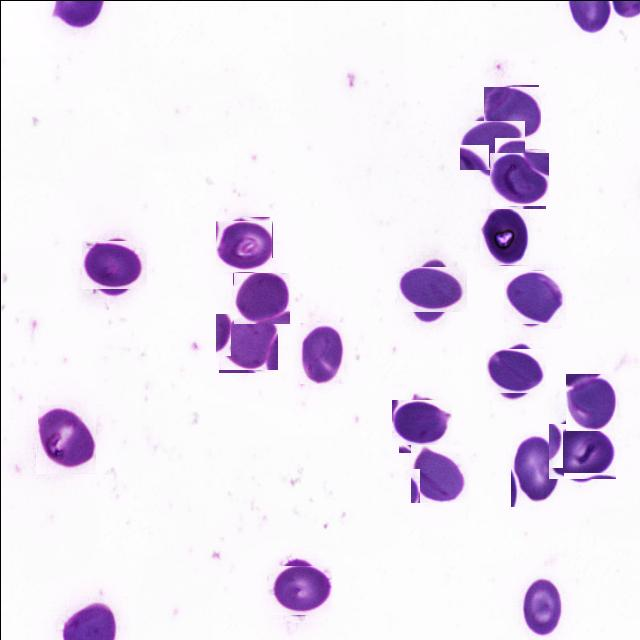red blood cell: (36, 404, 96, 473), (550, 419, 612, 481), (510, 431, 560, 506), (216, 310, 276, 370), (402, 260, 460, 318), (410, 444, 468, 502), (506, 268, 564, 326), (463, 115, 521, 173), (270, 561, 328, 618), (85, 236, 142, 293), (491, 150, 546, 207), (484, 84, 539, 140), (232, 272, 289, 324), (566, 373, 618, 430), (478, 208, 529, 265), (217, 218, 270, 272), (394, 396, 448, 448), (489, 344, 542, 396), (299, 320, 343, 382), (522, 576, 562, 638)
